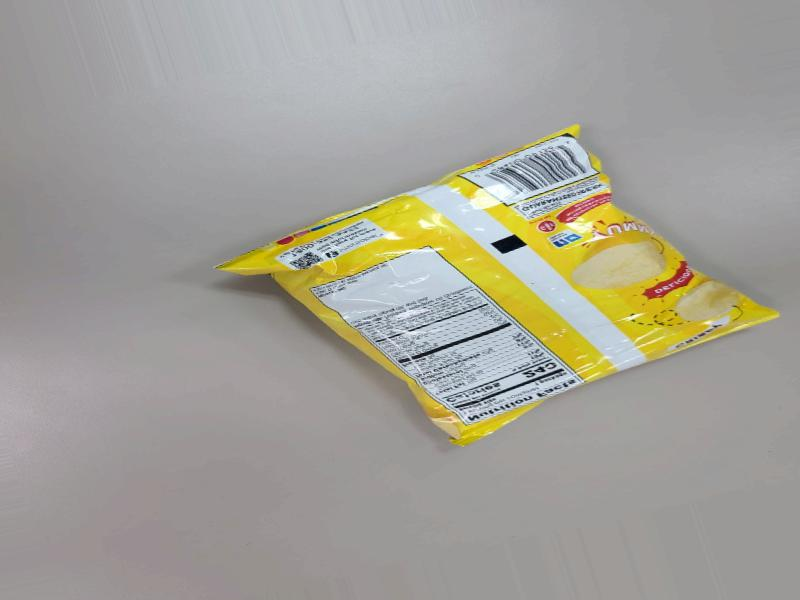lays: (337, 194, 800, 412)
